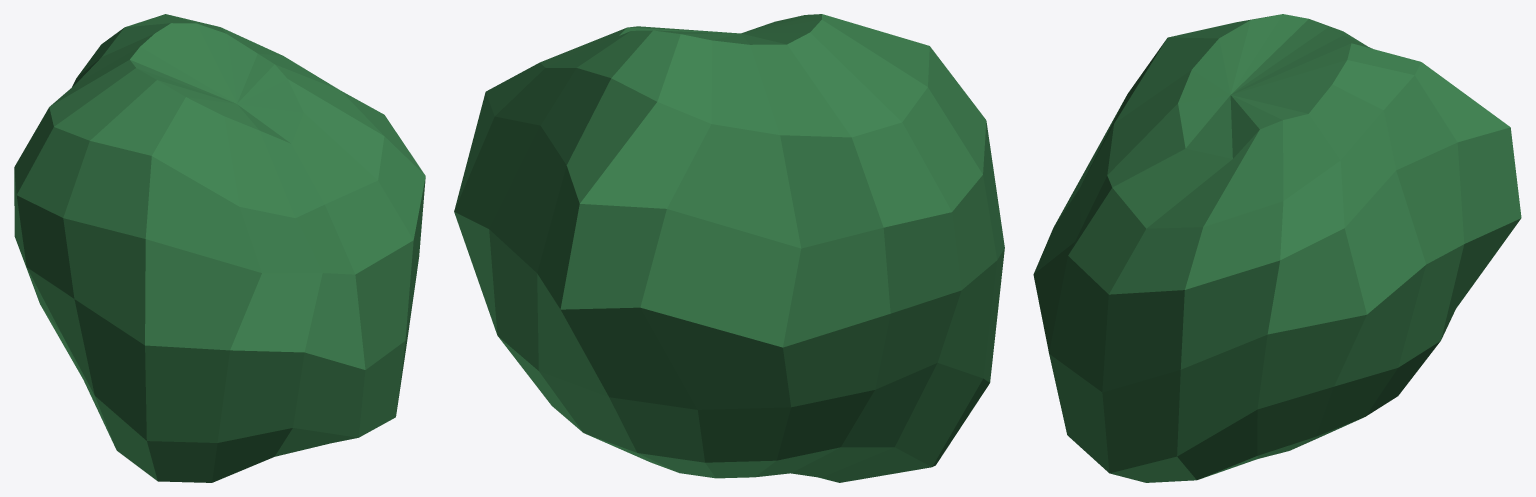
The model's file is bush1.fbx.
3 views of the same model, side by side, from view 1: azimuth 30°, elevation 25°; view 2: azimuth 150°, elevation 25°; view 3: azimuth 270°, elevation 25° (orthographic). The views are drawn at different scales.
Visible parts, largest first — view 1: Bush1; view 2: Bush1; view 3: Bush1.
Boxes of the visible parts, <box> form: Bush1: <box>14,14,425,482</box>; Bush1: <box>454,14,1004,482</box>; Bush1: <box>1033,14,1521,482</box>.
Bounding box in the file's own units: 10.78 × 11.41 × 10.44.
